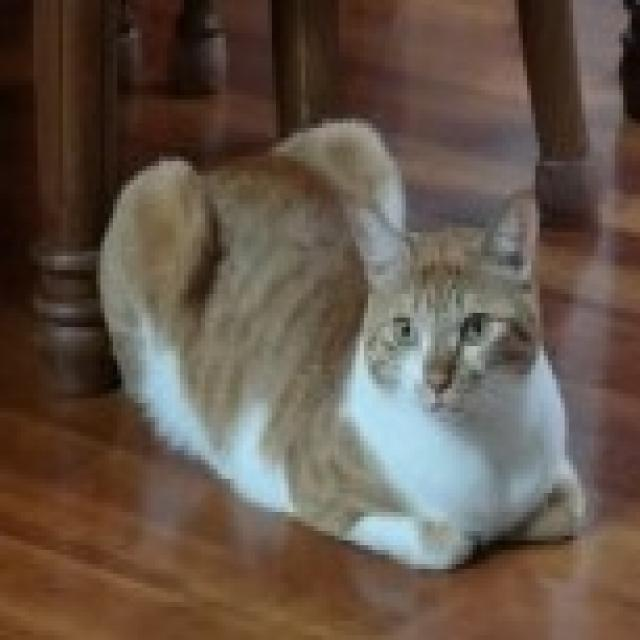cat: (84, 105, 616, 576)
